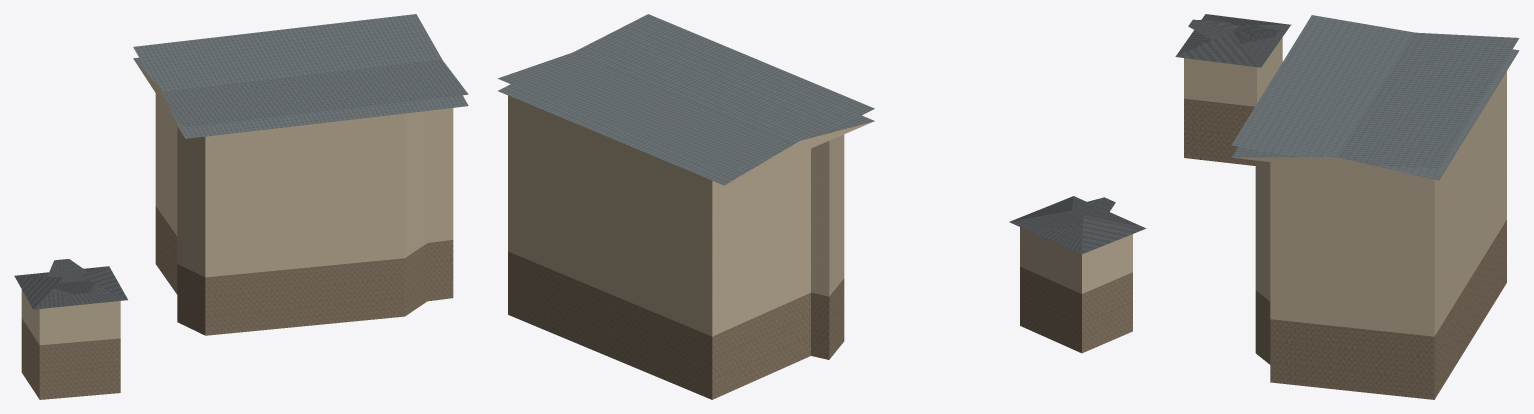
The model's file is bld_c6_8_487.gltf.
The picture shows the model from 3 angles, left to right: view 1: azimuth 30°, elevation 25°; view 2: azimuth 150°, elevation 25°; view 3: azimuth 270°, elevation 25°; orthographic projection. The views are drawn at different scales.
Parts seen in each view (by area): view 1: bld_c6_8_487; view 2: bld_c6_8_487; view 3: bld_c6_8_487.
Boxes of the visible parts, left/top/right/bottom form: bld_c6_8_487: left=14, top=14, right=468, bottom=399; bld_c6_8_487: left=498, top=14, right=1146, bottom=399; bld_c6_8_487: left=1175, top=14, right=1519, bottom=399.
Size of the model in its own units: 44.9 by 19 by 25.15.
Materials: 5 (5 with a texture image).
